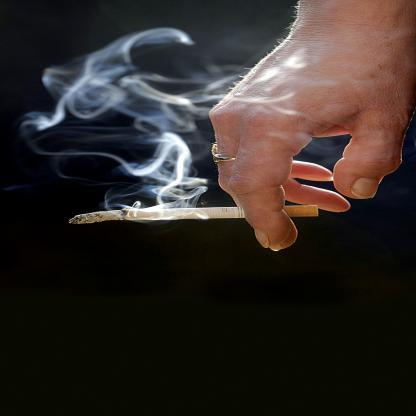cigarette: (64, 204, 324, 226)
smoke: (21, 27, 217, 198)
